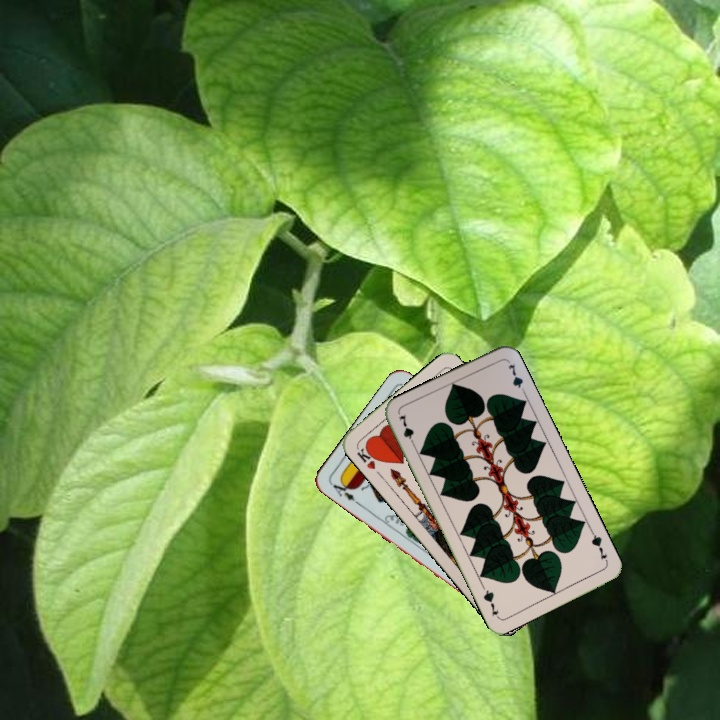EA: (327, 476, 362, 508)
G7: (587, 527, 611, 565), (395, 411, 418, 450)
HK: (353, 441, 381, 472)
